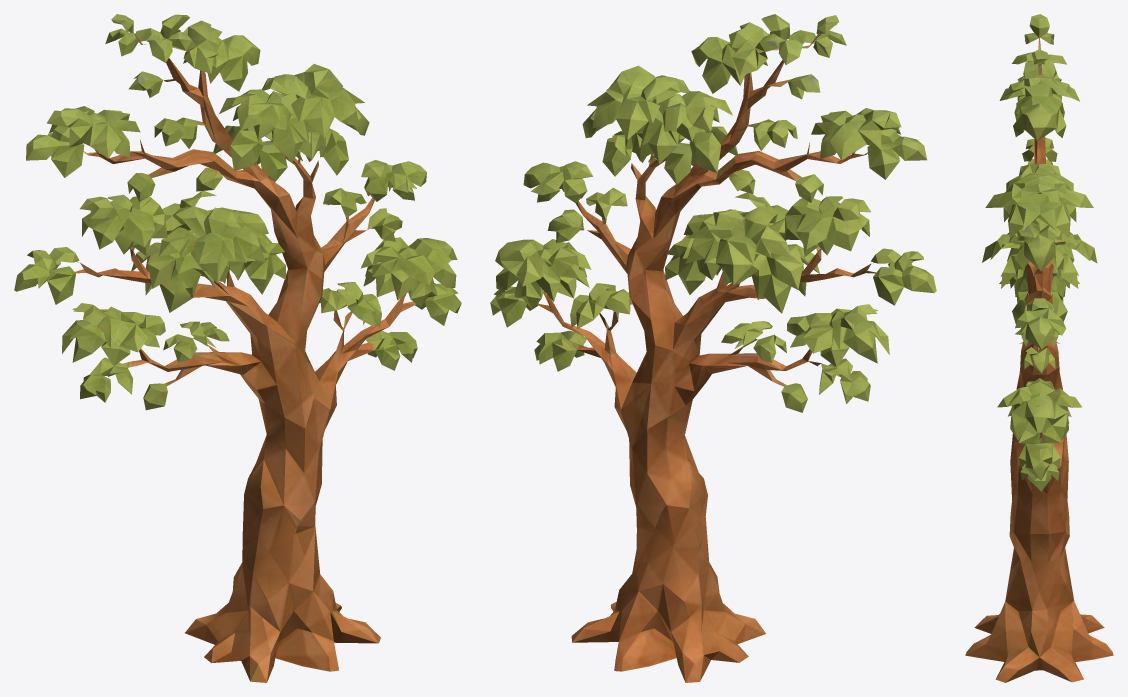
Rendered from mulberry-tree.glb.
3 renders of one model, left to right at view 1: azimuth 30°, elevation 25°; view 2: azimuth 150°, elevation 25°; view 3: azimuth 270°, elevation 25°, orthographic. The views are drawn at different scales.
Size of the model in its own units: 1.33 by 1.9 by 0.4514.
Materials: 1 (1 with a texture image).
